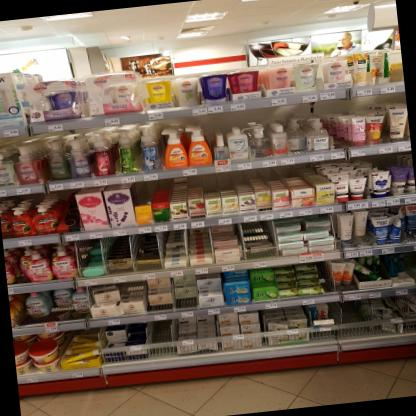empty_space: (149, 320, 172, 359), (340, 304, 362, 339)
